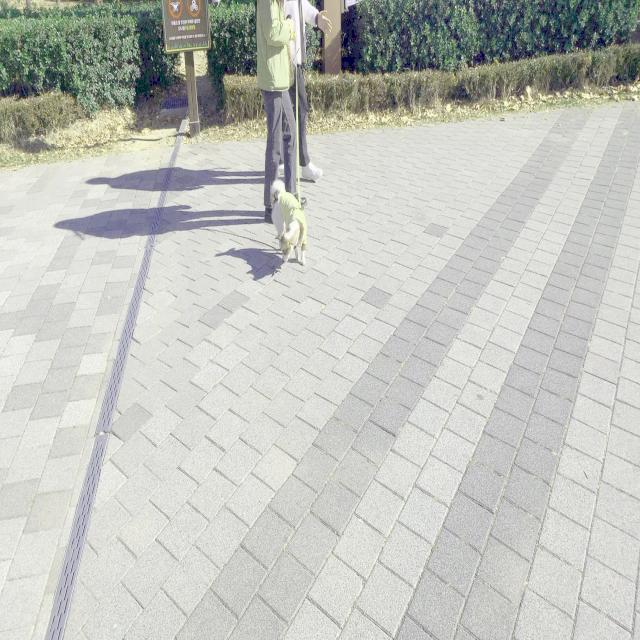Leashed_Dog: (269, 18, 307, 266)
